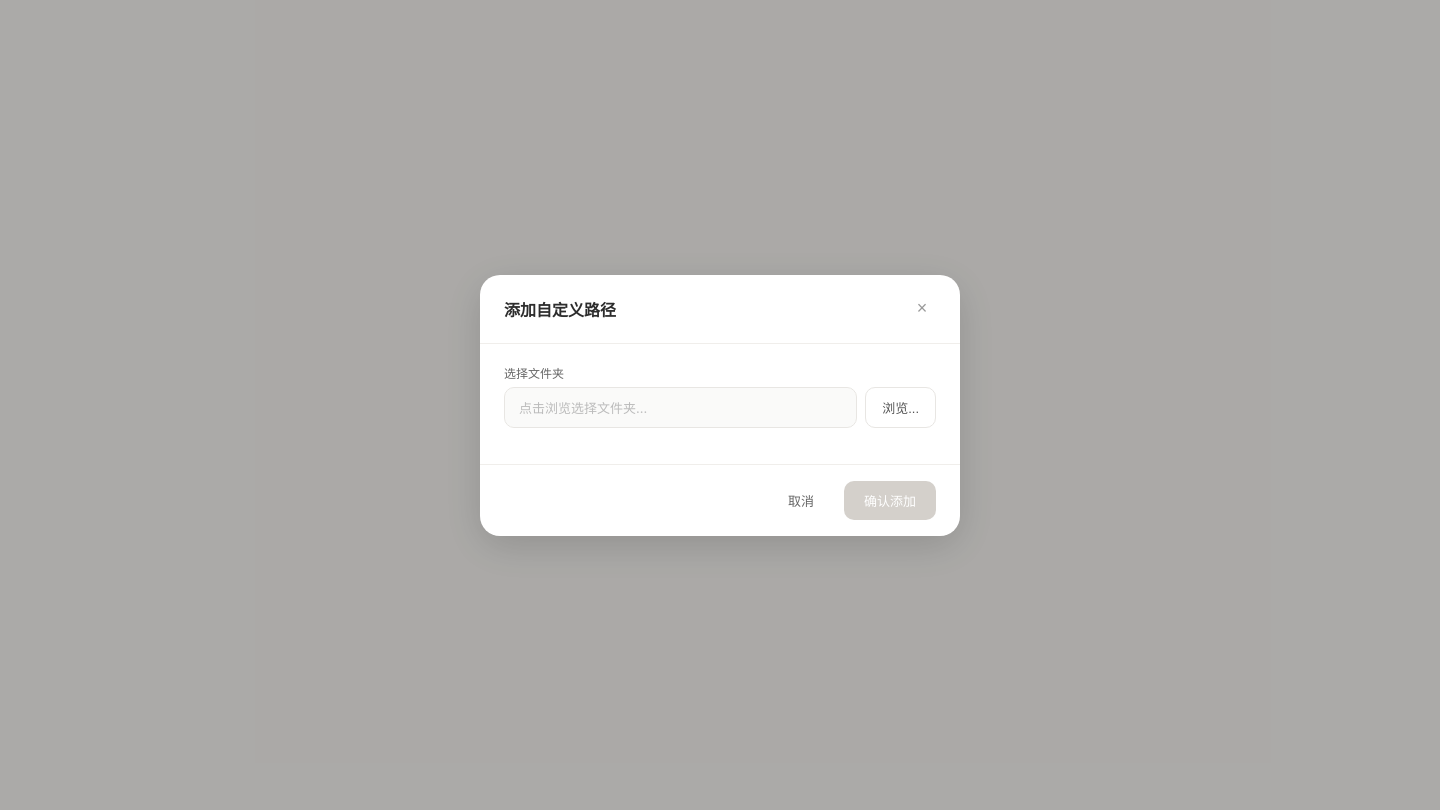
Scenario: AddPathModal V0.4 Behavior (Unit) › UT-FE-ADDPATH-05: 扫描失败应显示错误提示
Step 1. Click the button "浏览..." → [901, 407], box [865,386,936,428]
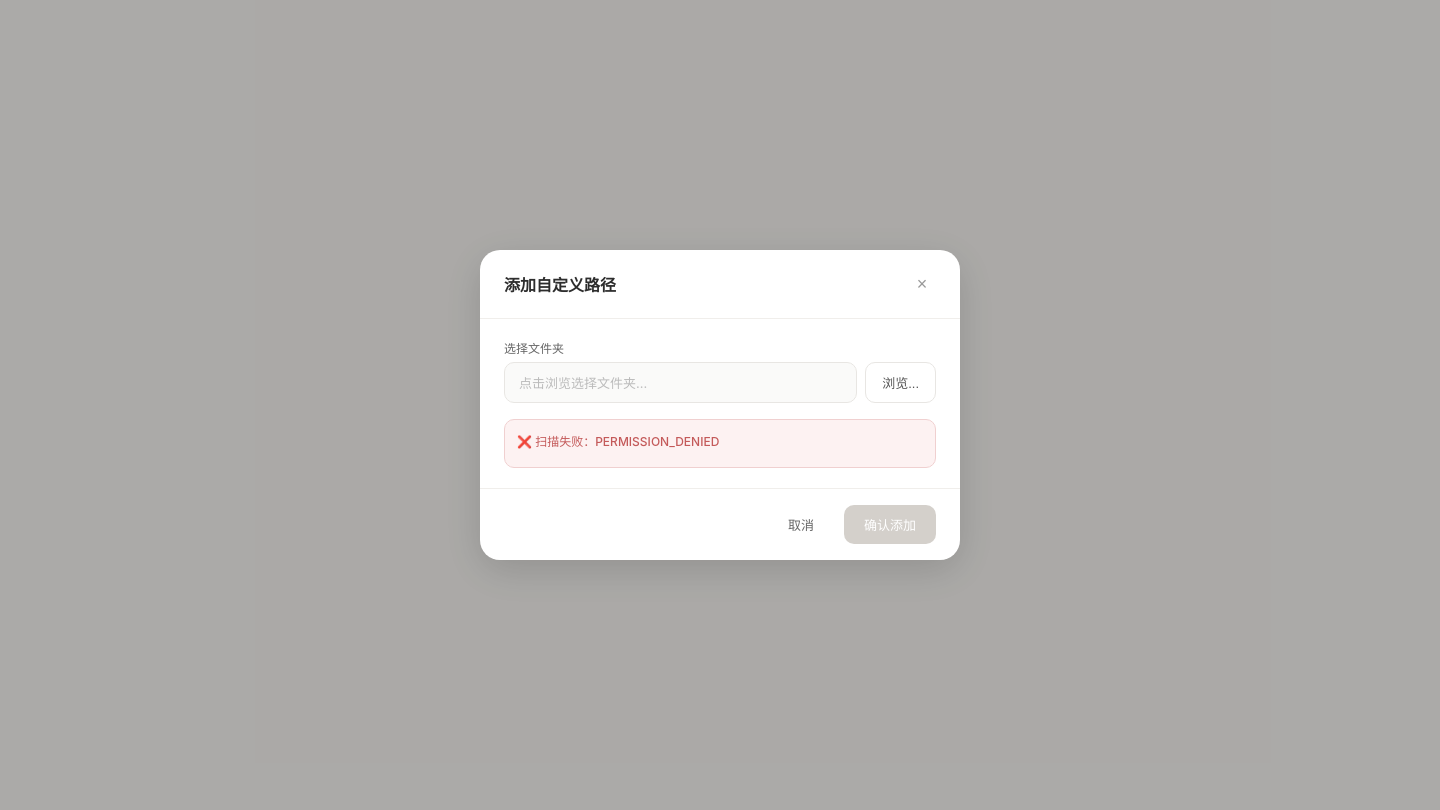
expect the text "❌ 扫描失败：PERMISSION_DENIED" is shown: met, box [517,434,719,449]
